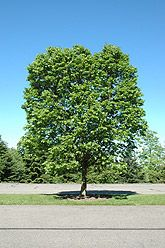tree: (20, 42, 150, 197)
